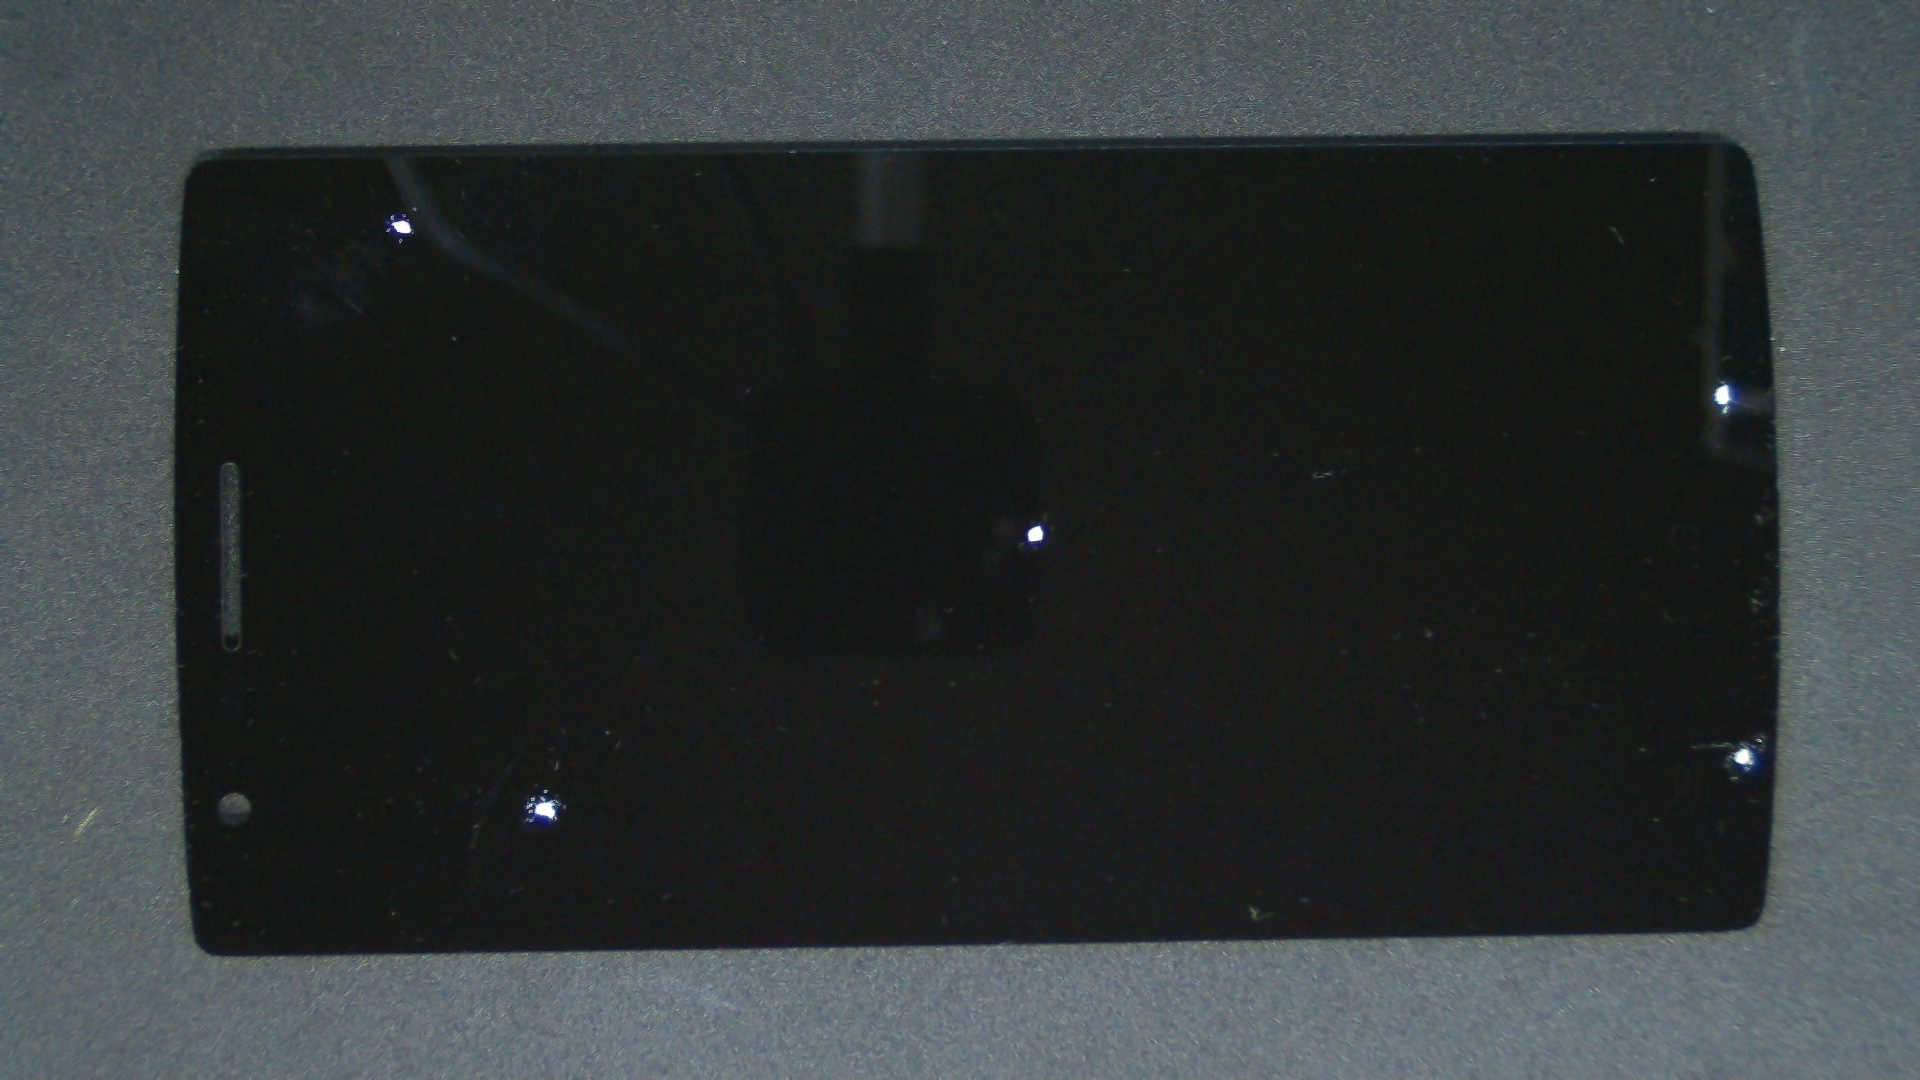oil: (880, 367, 1920, 1080), (520, 261, 1556, 786), (861, 190, 1920, 571), (273, 394, 815, 1080), (207, 103, 618, 311), (202, 105, 600, 320)
